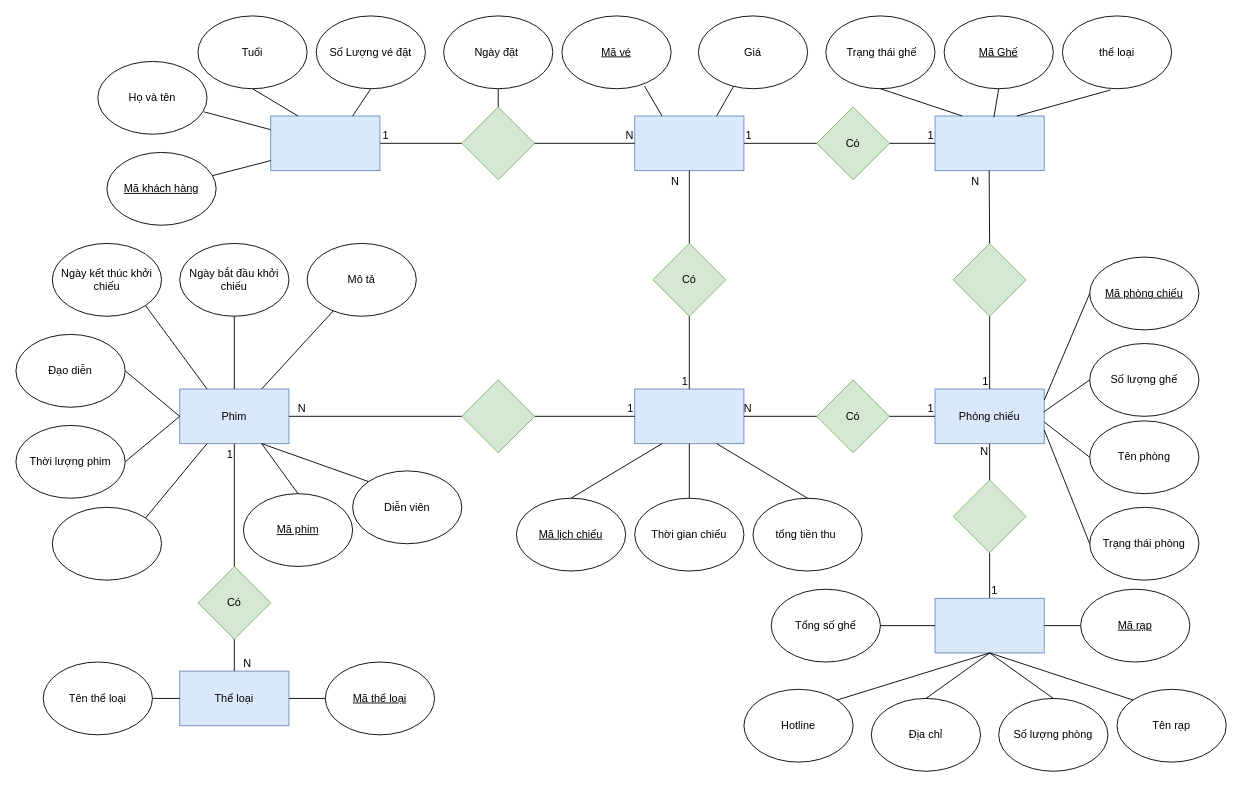
Some shapes in this 1242 by 787 pixel diagram are drawn without their labels. Each missing label, with the box of its shape:
Chiếu: (461, 379, 535, 453)
Ghế ngồi: (934, 115, 1044, 171)
Khách Hàng: (270, 115, 380, 171)
Lịch chiếu: (634, 388, 744, 444)
Mua: (461, 106, 535, 180)
Rạp: (934, 597, 1044, 653)
Thuộc: (952, 479, 1026, 553)
Trong: (952, 243, 1026, 316)
Tên phim: (51, 506, 162, 580)
Vé: (634, 115, 744, 171)
